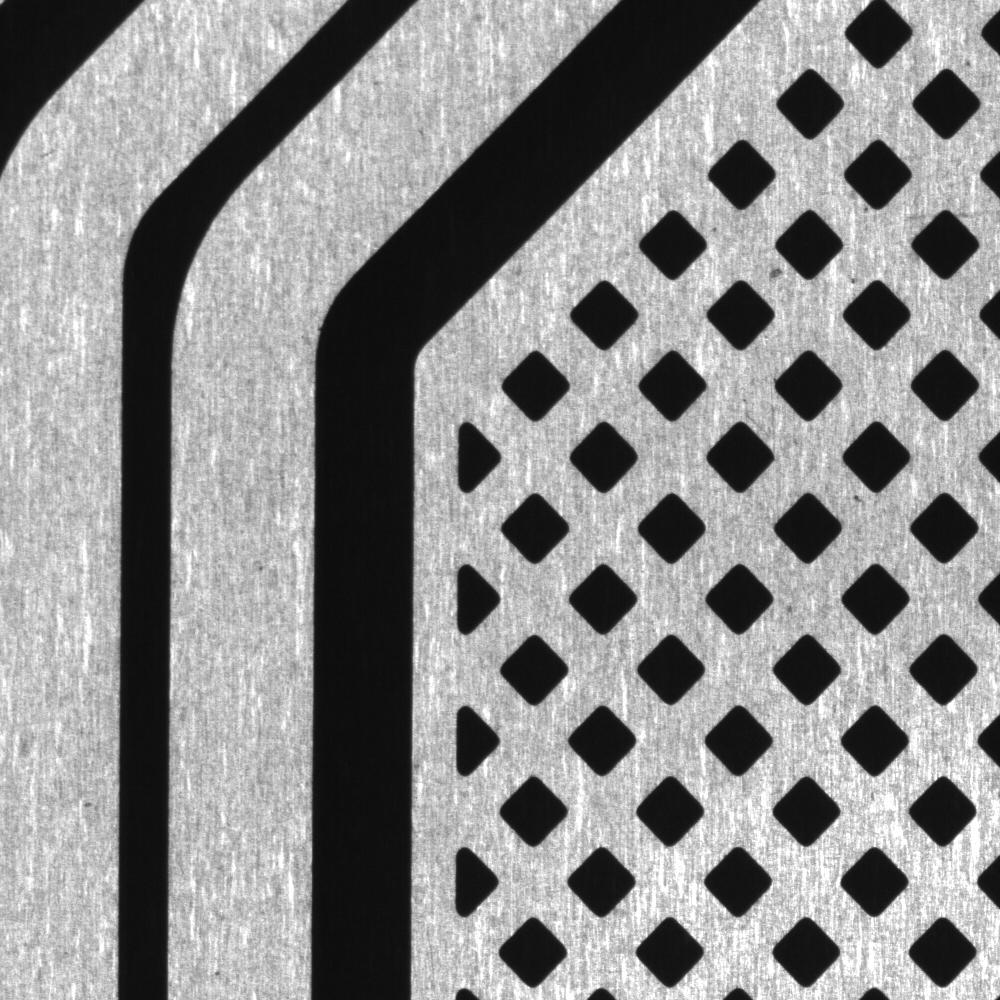Etching: (305, 316, 331, 340), (74, 792, 98, 812), (208, 964, 231, 982)
Pinhole: (252, 557, 270, 578)
